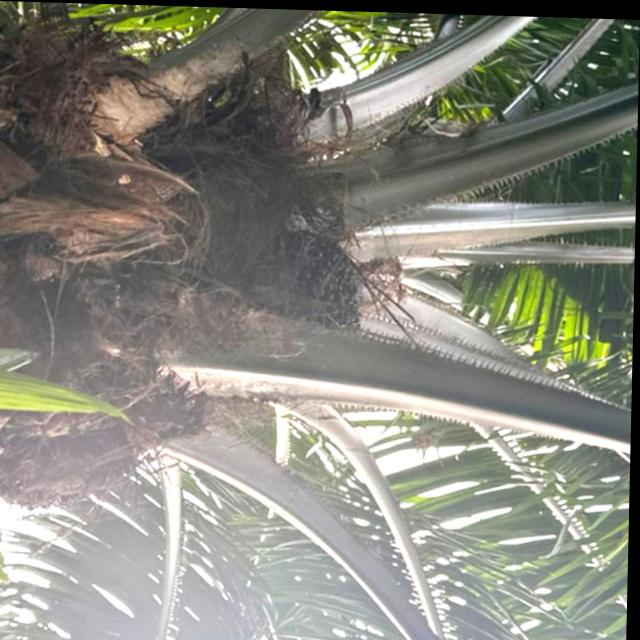unripe: (262, 228, 368, 323)
